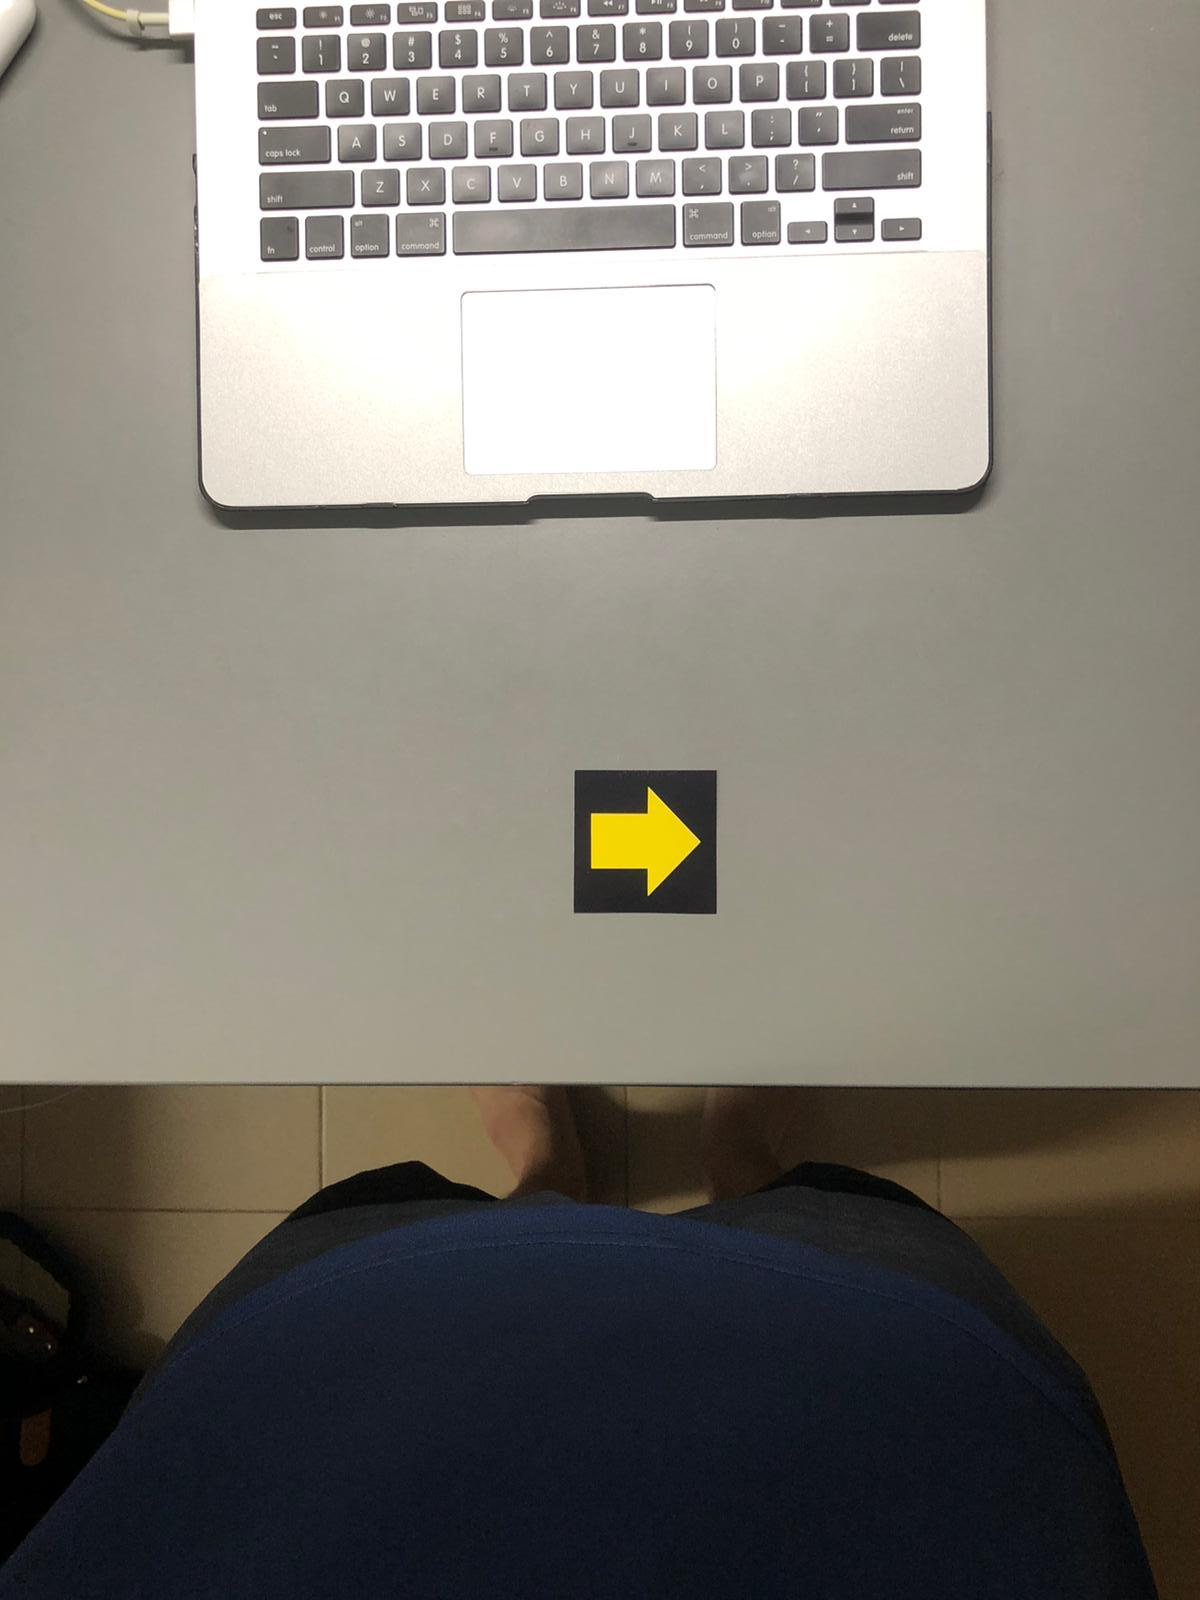Right Arrow: (577, 774, 715, 912)
